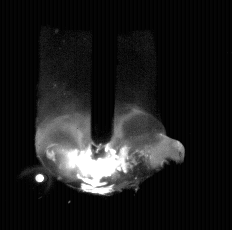arame: (91, 0, 115, 144)
poca: (36, 0, 166, 230)
